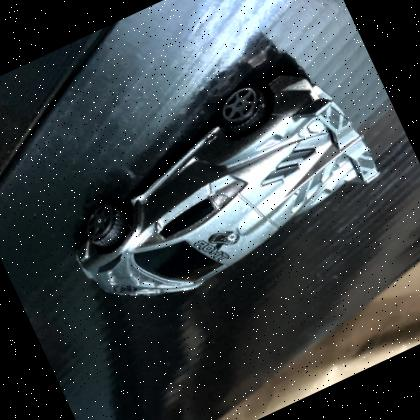Car: (74, 65, 379, 296)
